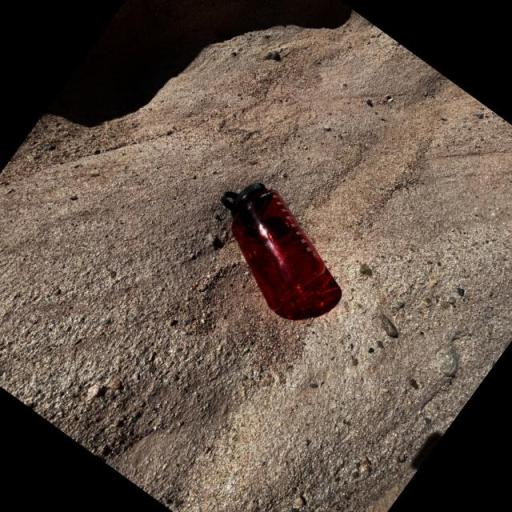bottle: (178, 158, 352, 327)
